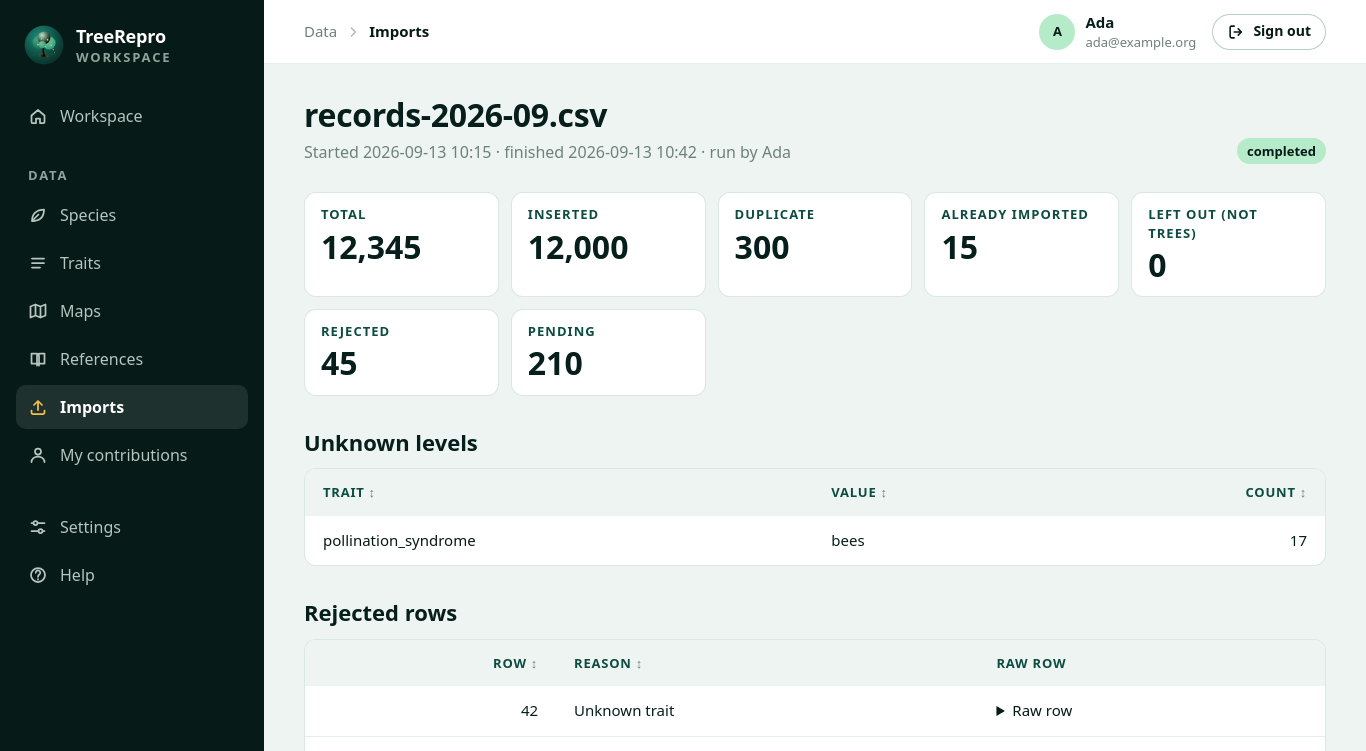
Scenario: RFC-13 R2, RFC-64 R11 ImportPage › shows the file, status, counts, unknown levels and the rejected rows
The image size is (1366, 751).
Expected: the heading "records-2026-09.csv" is shown, [304,93,607,136]
Expected: the text "completed" is shown, [1237,138,1326,164]
Click the heading "Raw row" in the row of "Unknown trait". click: (1042, 710)
box: [1012,700,1072,720]
(page scrolled)
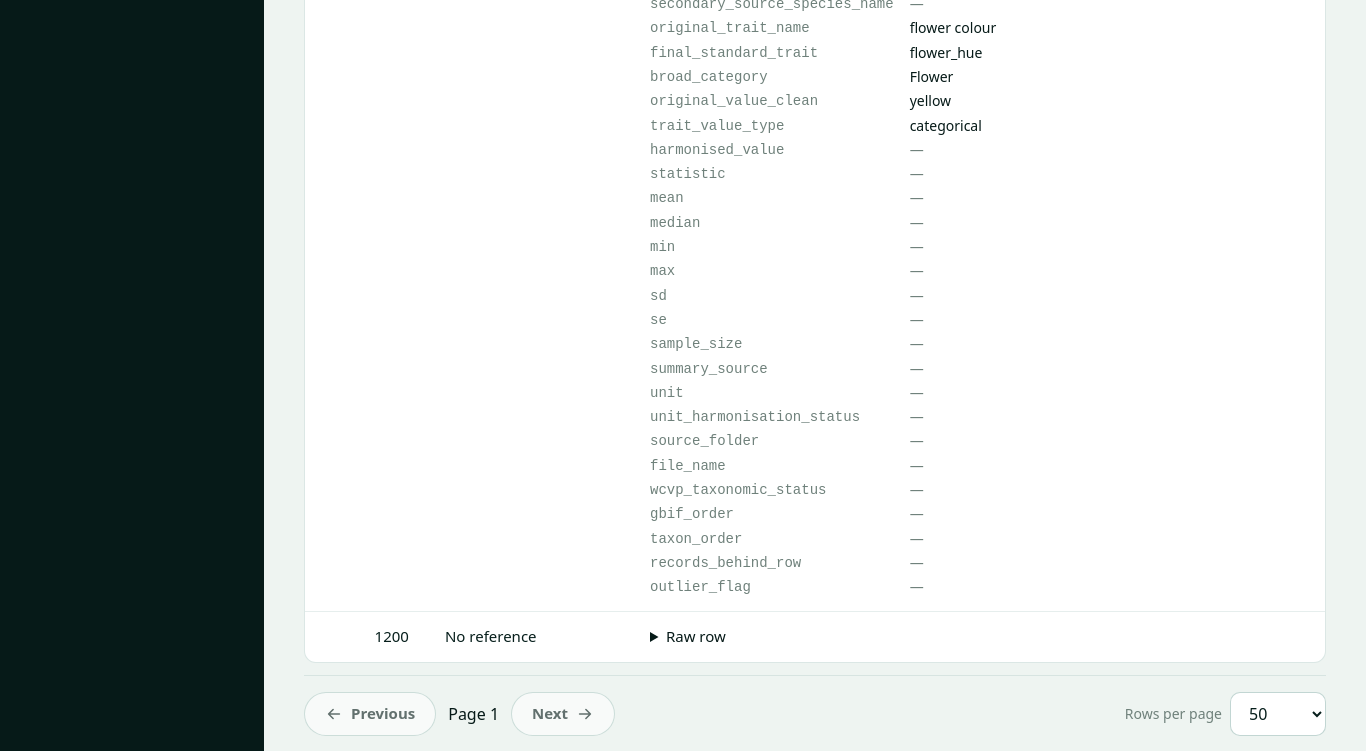
Expected: the text "Page 1" is shown, [448,702,499,726]
Expected: the text "flower_hue" is shown, [910,43,982,62]
